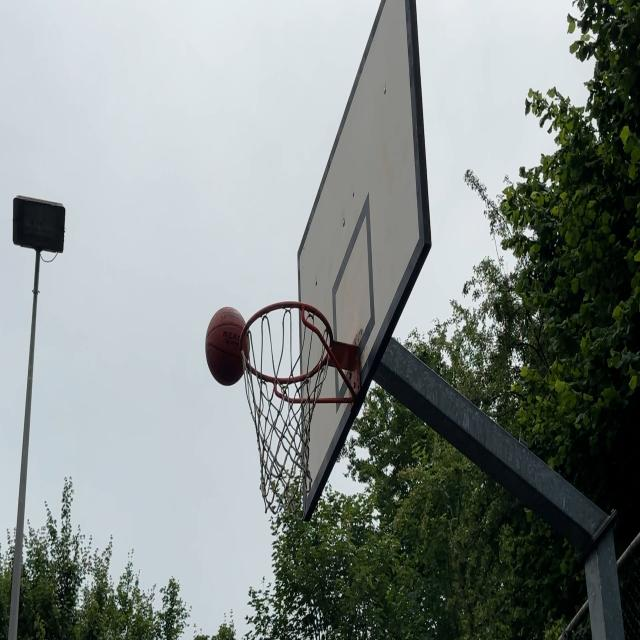Basketball: (205, 310, 248, 389)
